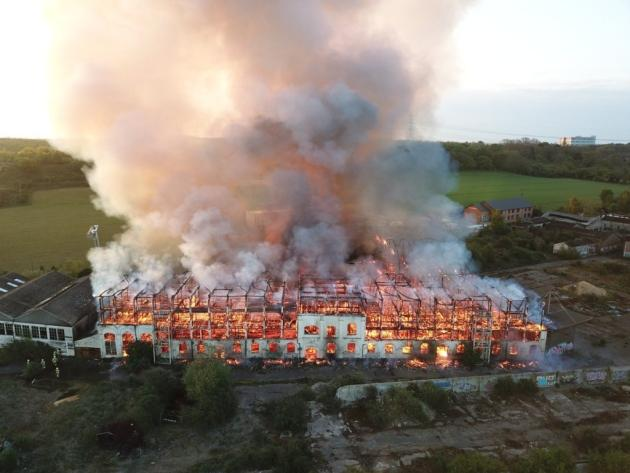Fire: (80, 258, 549, 369)
